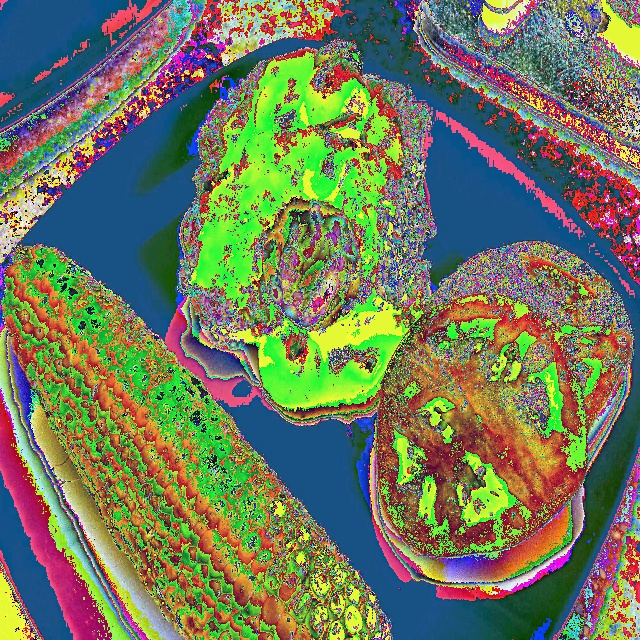background: (177, 38, 634, 557), (2, 243, 393, 639)
